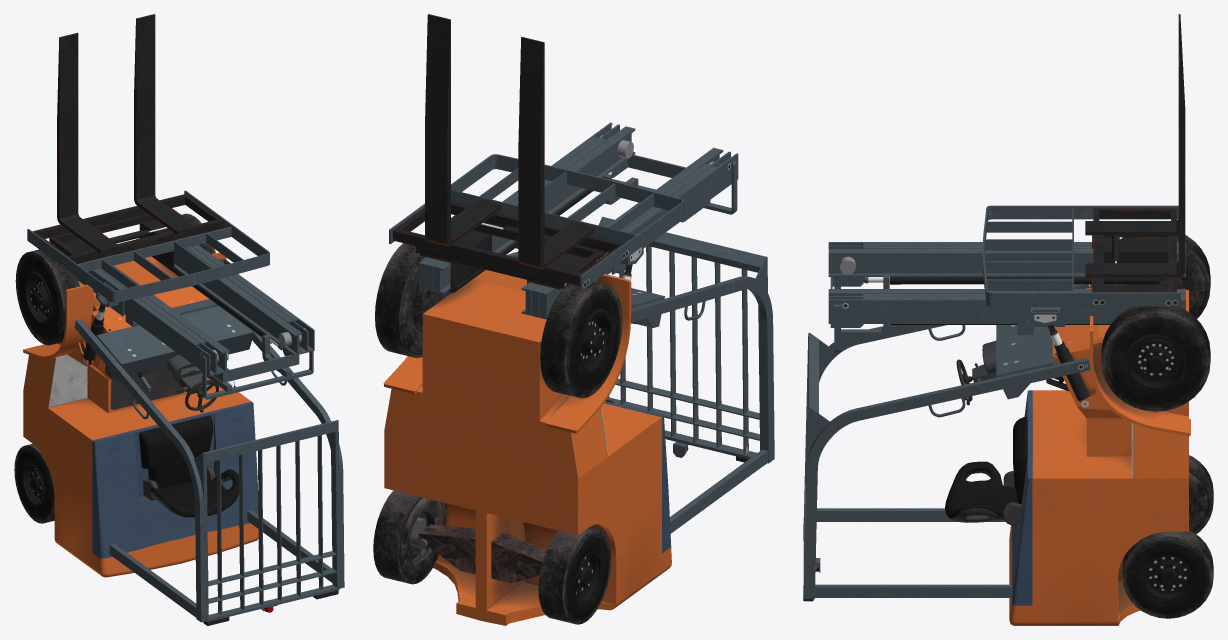
The picture shows the model from 3 angles, left to right: view 1: azimuth 30°, elevation 25°; view 2: azimuth 150°, elevation 25°; view 3: azimuth 270°, elevation 25°; orthographic projection. The views are drawn at different scales.
Parts seen in each view (by area): view 1: Forklift_b.139; view 2: Forklift_b.139; view 3: Forklift_b.139.
Part boxes in pixels (left/top/right/bottom): Forklift_b.139: left=14, top=14, right=344, bottom=625; Forklift_b.139: left=373, top=14, right=774, bottom=625; Forklift_b.139: left=803, top=14, right=1213, bottom=625.
Size of the model in its own units: 1.14 by 3.17 by 2.15.
Materials: 1 (1 with a texture image).
